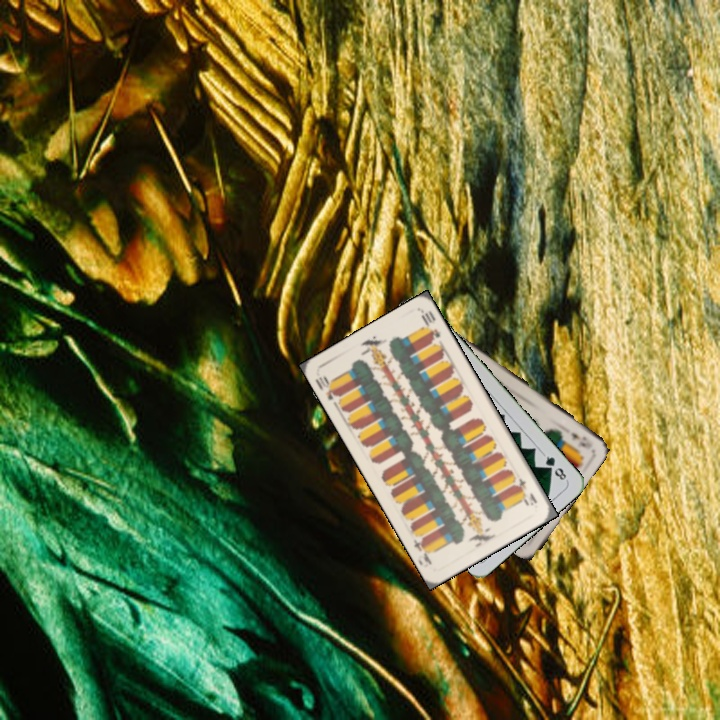E10: (312, 371, 345, 406), (513, 474, 540, 508)
EK: (567, 428, 595, 452)
G8: (539, 450, 570, 484)
